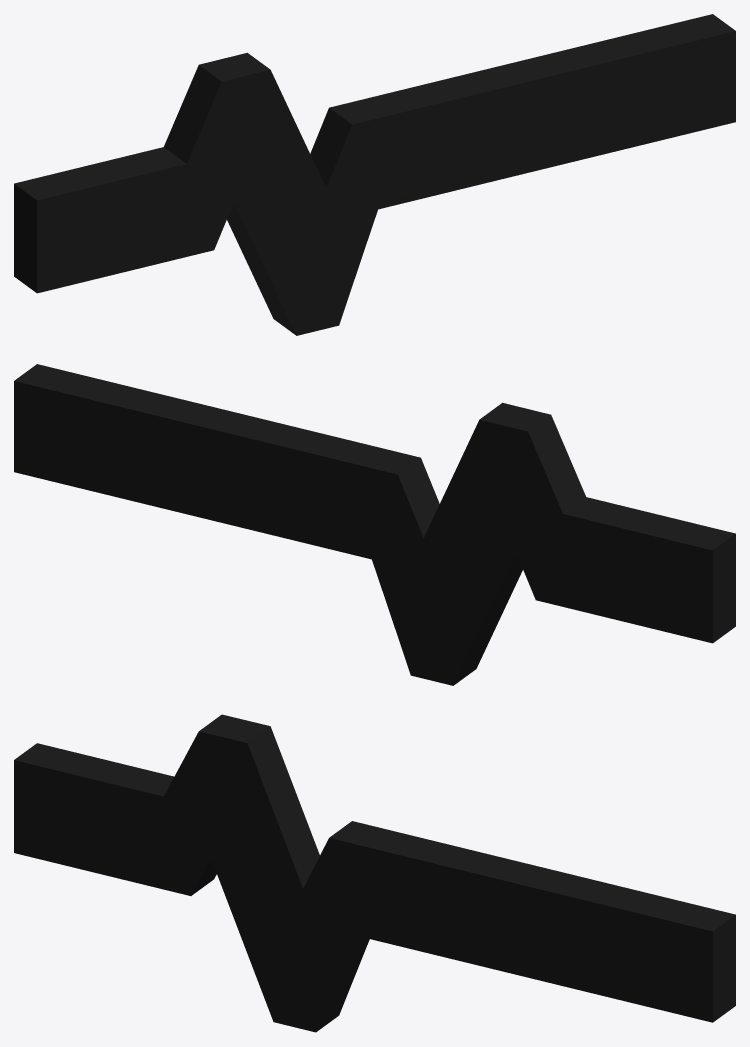
File: KISSOFLIFE_03.glb
3 views of the same model, one above another, from view 1: azimuth 30°, elevation 25°; view 2: azimuth 150°, elevation 25°; view 3: azimuth 330°, elevation 25° (orthographic).
Parts seen in each view (by area): view 1: KISSOFLIFE_03; view 2: KISSOFLIFE_03; view 3: KISSOFLIFE_03.
Boxes of the visible parts, left/top/right/bottom form: KISSOFLIFE_03: left=14, top=14, right=735, bottom=335; KISSOFLIFE_03: left=14, top=364, right=735, bottom=685; KISSOFLIFE_03: left=14, top=714, right=735, bottom=1032.
Bounding box in the file's own units: 0.0941 × 0.0351 × 0.0054.
1 material, 1 textured.
